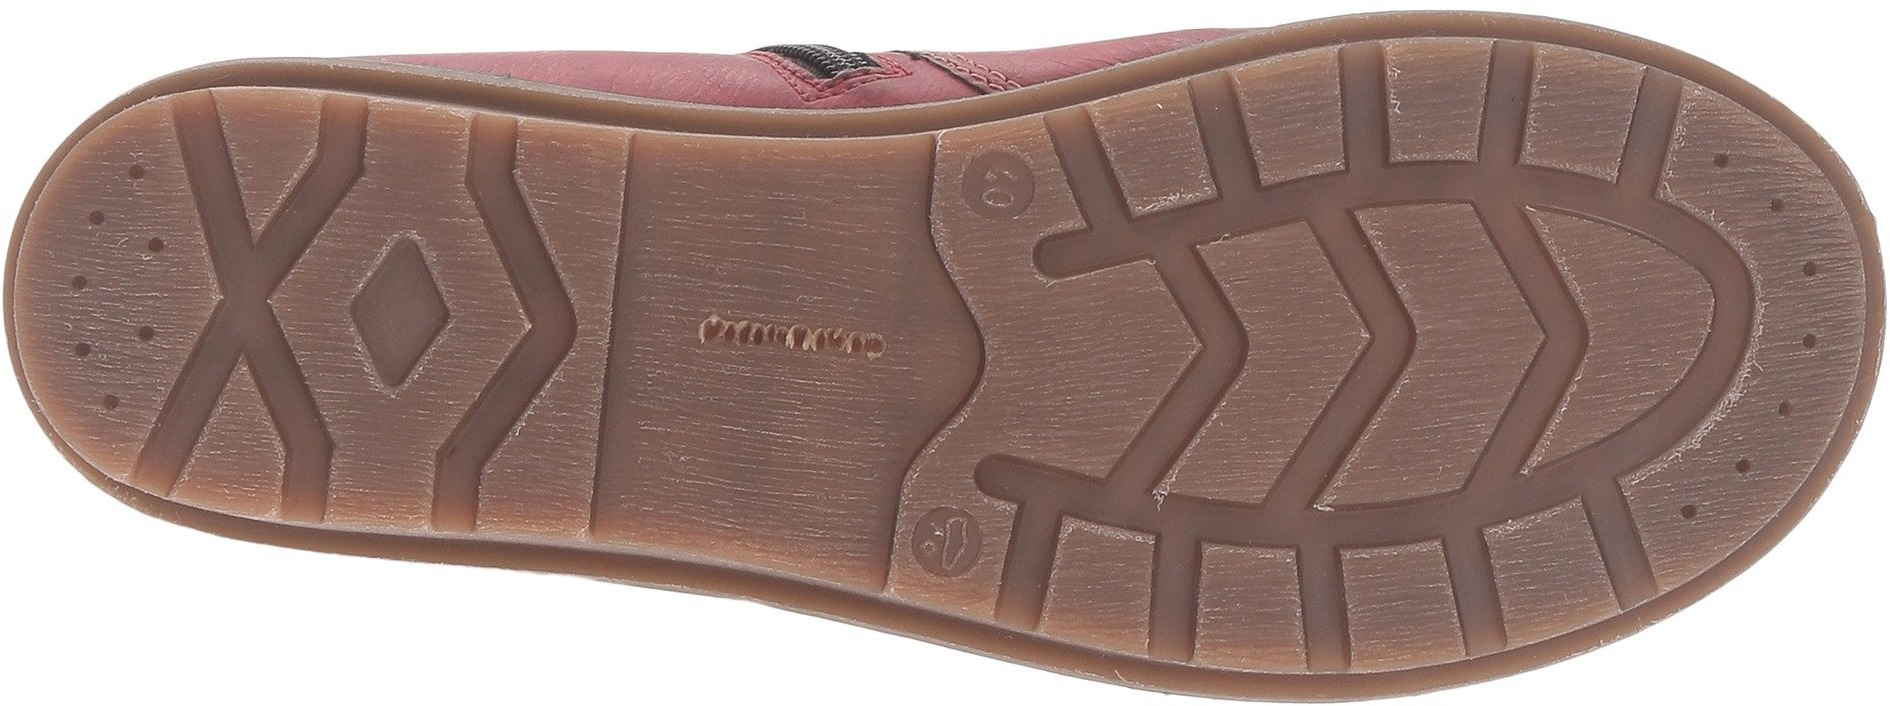chevron: (1119, 233, 1424, 510), (378, 186, 603, 436), (147, 199, 389, 414), (1432, 261, 1628, 454)
circle: (947, 139, 1055, 233), (893, 498, 999, 592), (1783, 314, 1839, 367), (57, 324, 108, 376)
text: (711, 264, 879, 423)
